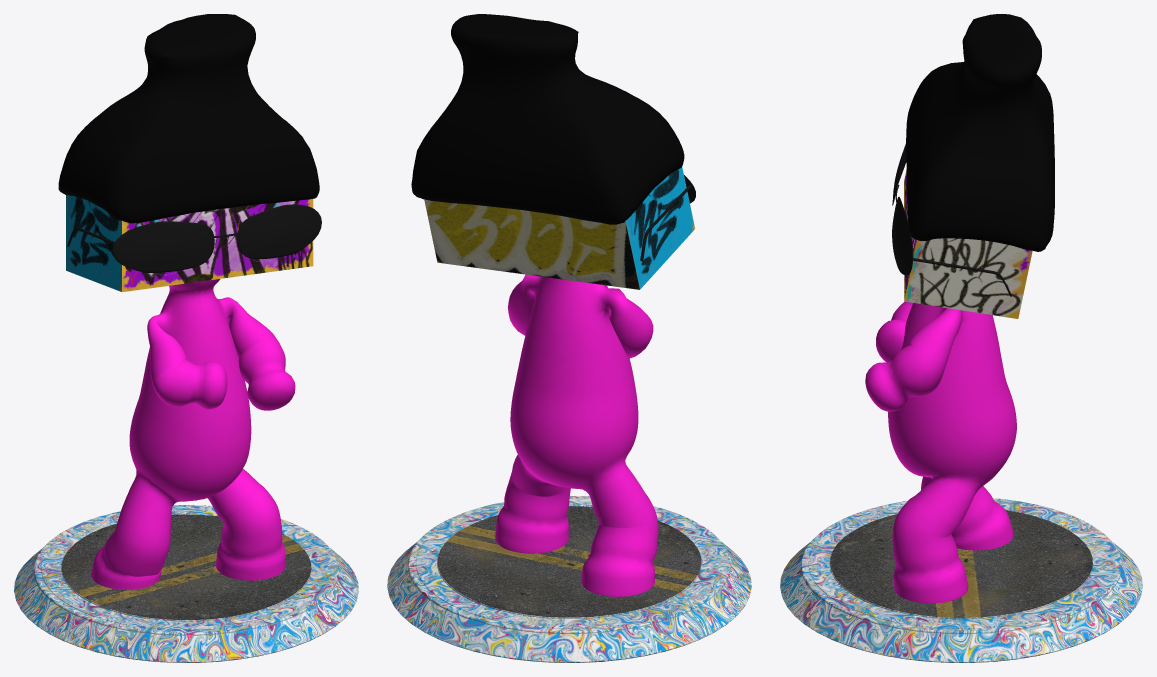
Rendered from 247_sanitized.glb.
3 renders of one model, left to right at view 1: azimuth 30°, elevation 25°; view 2: azimuth 150°, elevation 25°; view 3: azimuth 270°, elevation 25°, orthographic. The views are drawn at different scales.
Parts seen in each view (by area): view 1: BBody; view 2: BBody; view 3: BBody.
Boxes of the visible parts, box(x1,y1,x2,y2) form: BBody: box(14, 14, 358, 662); BBody: box(387, 14, 751, 662); BBody: box(780, 14, 1142, 662).
Size of the model in its own units: 1.45 by 2.5 by 1.45.
Materials: 6 (3 with a texture image).
